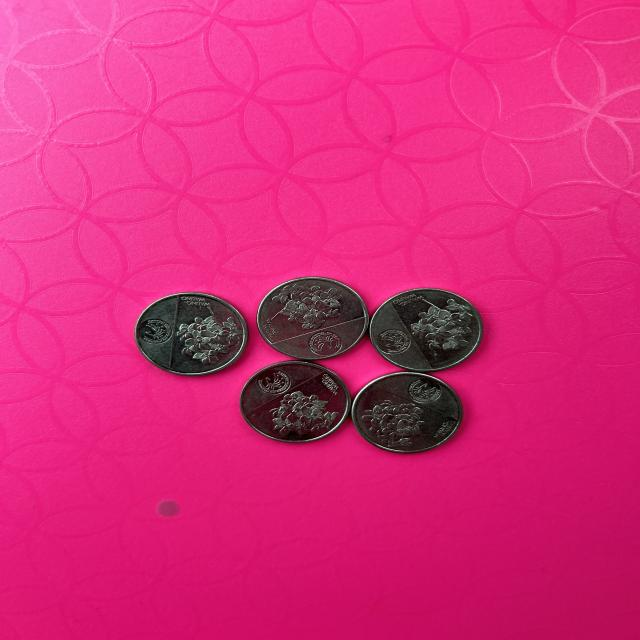1_New_Back: (400, 297, 480, 364), (360, 393, 440, 446), (179, 306, 241, 361), (268, 281, 333, 332), (269, 392, 339, 433)
